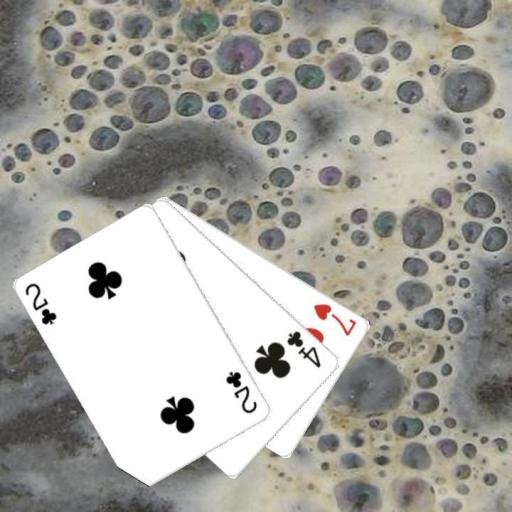2C: (223, 369, 260, 416), (22, 280, 59, 327)
4C: (284, 327, 323, 369)
7H: (310, 300, 358, 338)
